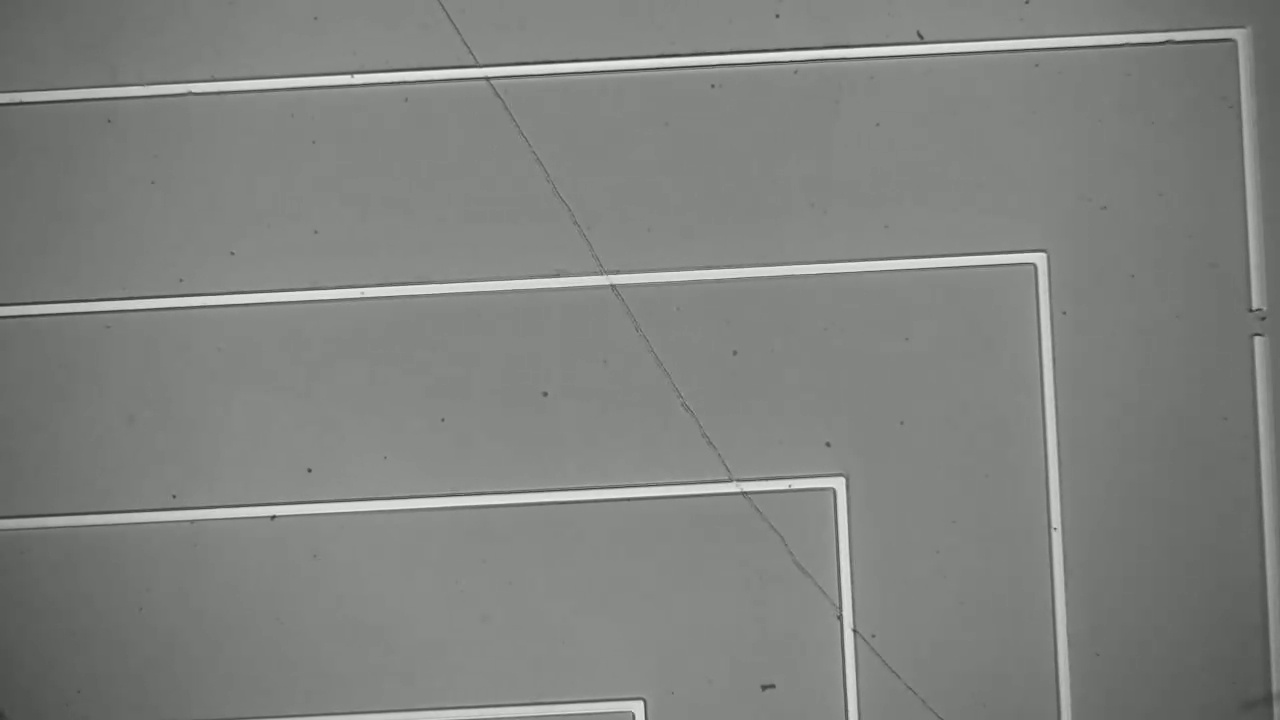open: (1228, 286, 1279, 357)
scratch: (432, 0, 937, 717)
